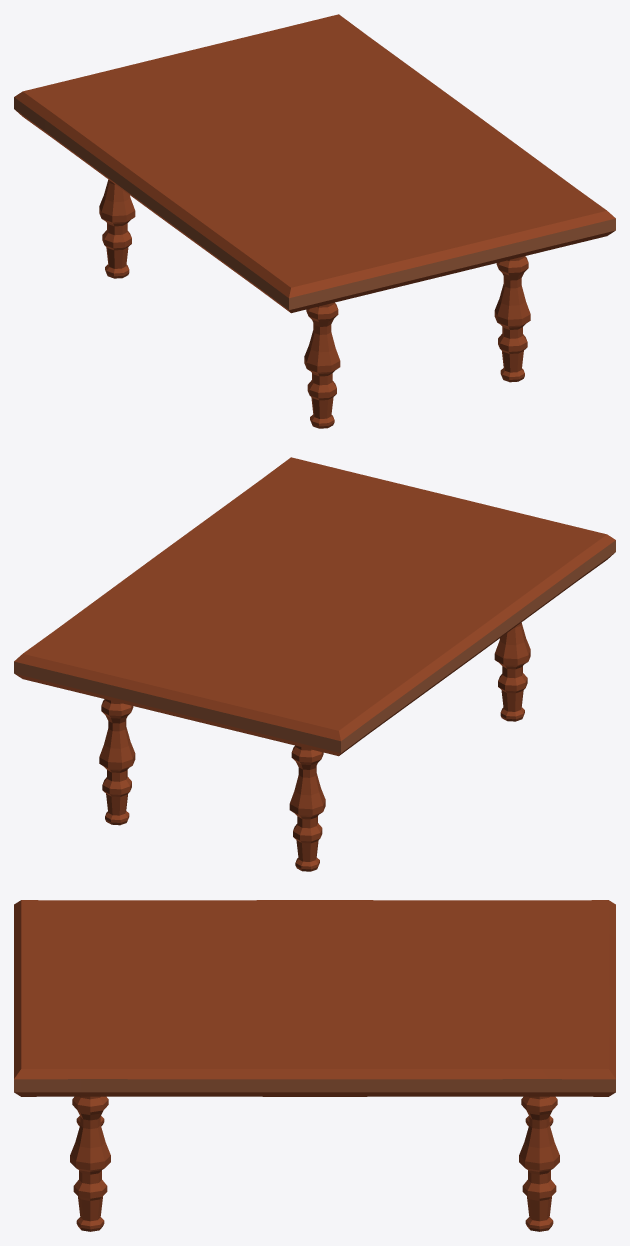
File: table.fbx
3 renders of one model, top to bottom at view 1: azimuth 30°, elevation 25°; view 2: azimuth 150°, elevation 25°; view 3: azimuth 270°, elevation 25°, orthographic. The views are drawn at different scales.
Visible parts, largest first — view 1: Tisch; view 2: Tisch; view 3: Tisch.
Part boxes in pixels (box(x1,y1,x2,y2)): Tisch: box(14, 14, 615, 428); Tisch: box(14, 457, 615, 871); Tisch: box(14, 900, 615, 1231).
Bounding box in the file's own units: 985 × 503 × 1434.
